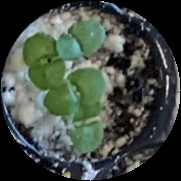Basil: (45, 68, 104, 117), (64, 102, 105, 154), (24, 38, 63, 86), (58, 20, 103, 58)
